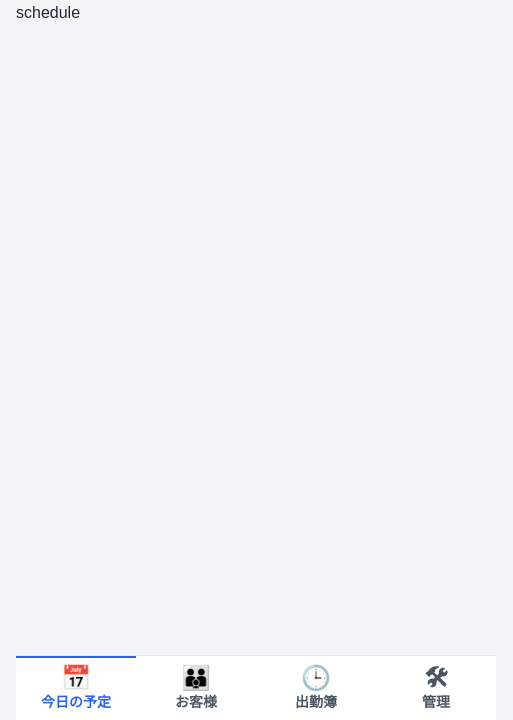
Test: 下タブ › admin には「🛠 管理」を加えた4つを出し、押すと管理タブになる
Click the button "🛠 管理" at (436, 688), box [376,656,496,719]
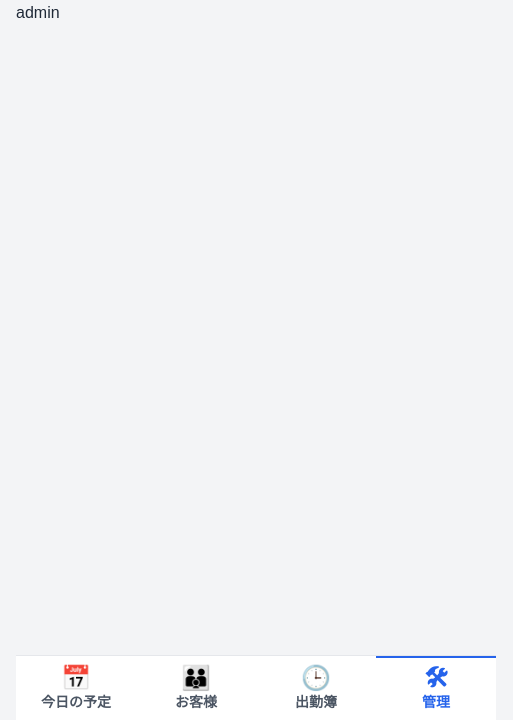
Expected: the text "admin" is shown, [16,4,60,21]
